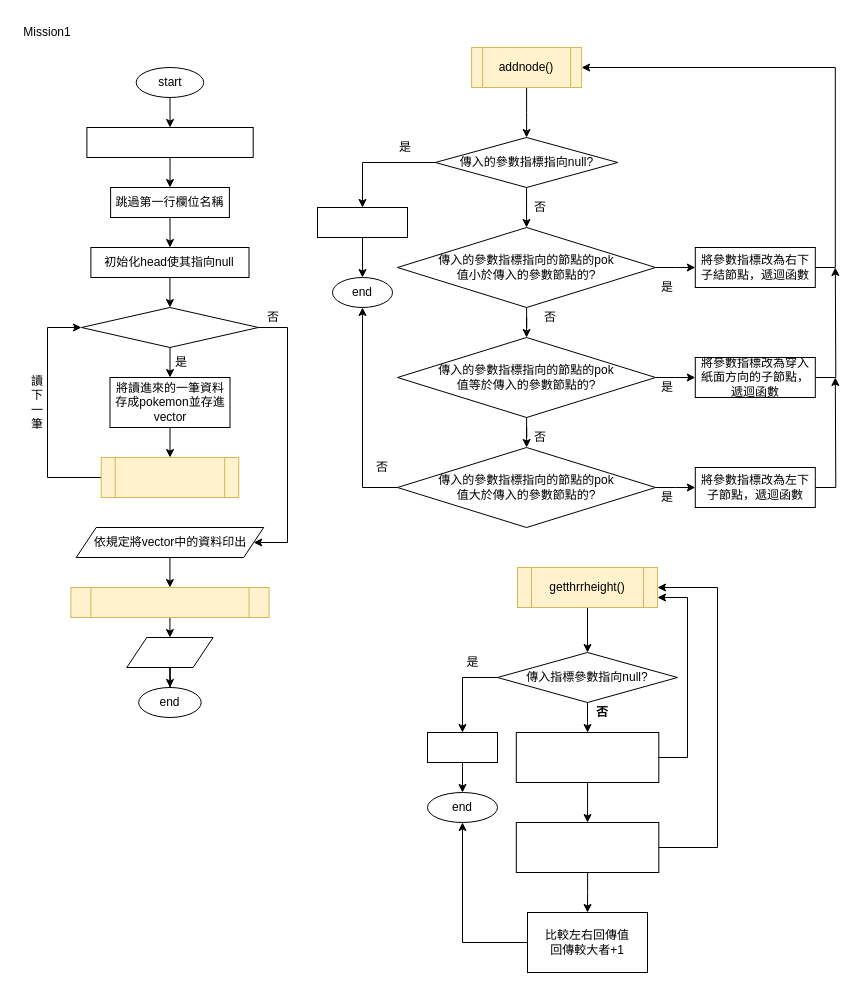
Some shapes in this 861 by 990 pixel diagram are drawn without their labels. The shapes that lost their labels are listed below. From the top down, each one's box as (x1, y1, x2, y2) in pixels, then its label:
(86, 126, 253, 158): 整理檔名成inputxxx.txt並開啟
(316, 206, 408, 238): 建立新的結點
(80, 306, 258, 348): 還讀的到資料?
(100, 456, 239, 498): 用addnode()將這個node存進二元樹
(70, 586, 269, 618): 用getthrrheight()得到樹高
(126, 636, 213, 668): 印出樹高
(426, 732, 498, 762): 回傳0
(515, 732, 659, 782): 將傳入指標改為左下子節點並遞迴，得到回傳值
(515, 822, 659, 872): 將傳入指標改為右下子節點並遞迴，得到回傳值
